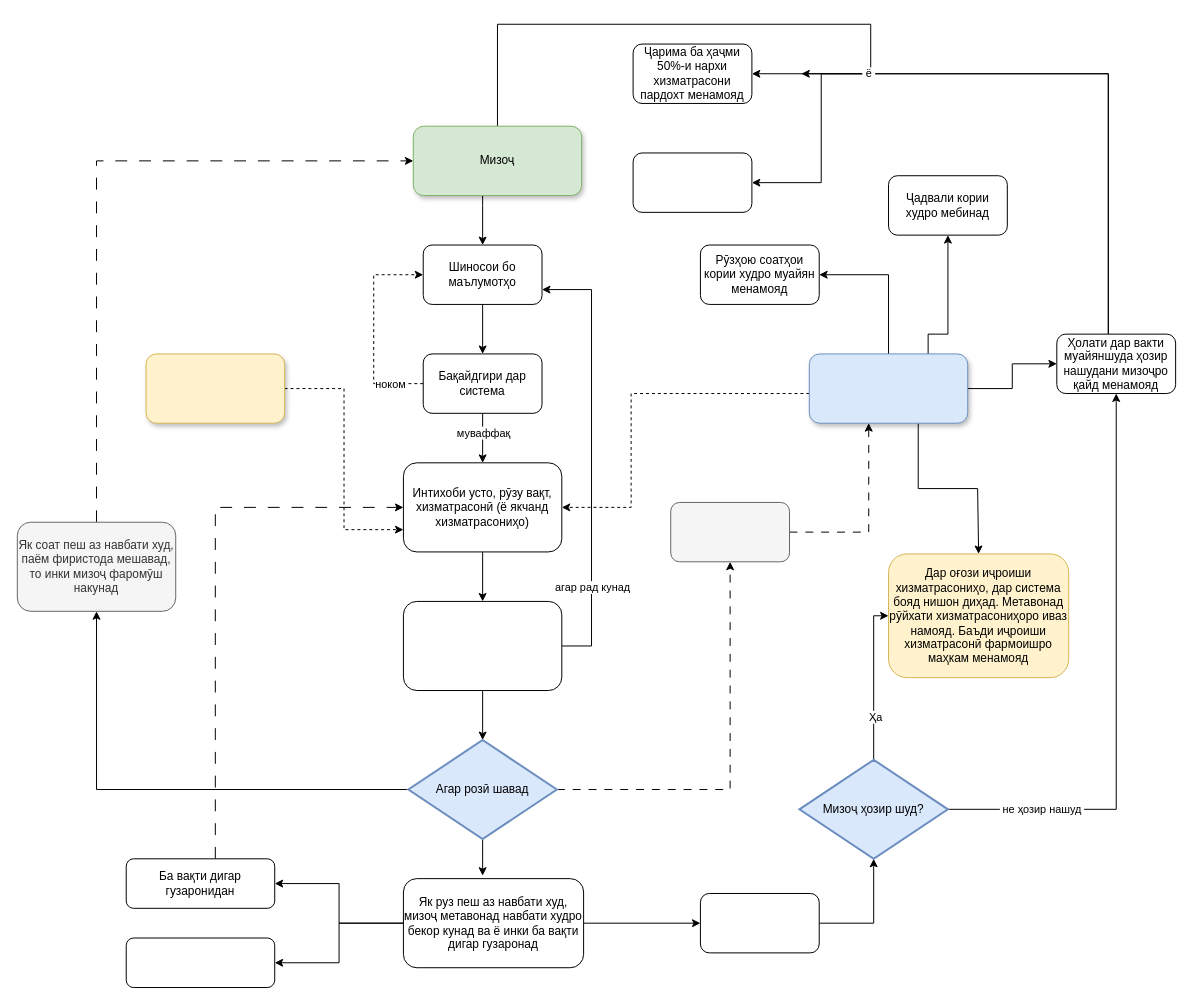
Image size: 1193x1005. Some labels were removed from this diagram. Here are the shapes that lost their labels. From the top down, the centre of each, then its label:
At [692,182]: "Имконияти ба навбат истоданро гум мекунад".
At [216,389]: "Хизматрасонӣ".
At [889,389]: "Усто".
At [730,531]: "Маълумот оиди навбати дигар дастрас менамояд".
At [482,645]: "Маълумотро дида мебарояд ва қарор қабул мекунад".
At [759,922]: "Дар рӯзу вақти навбати мизоҷ".
At [200,962]: "Бекор кардани навбат".
